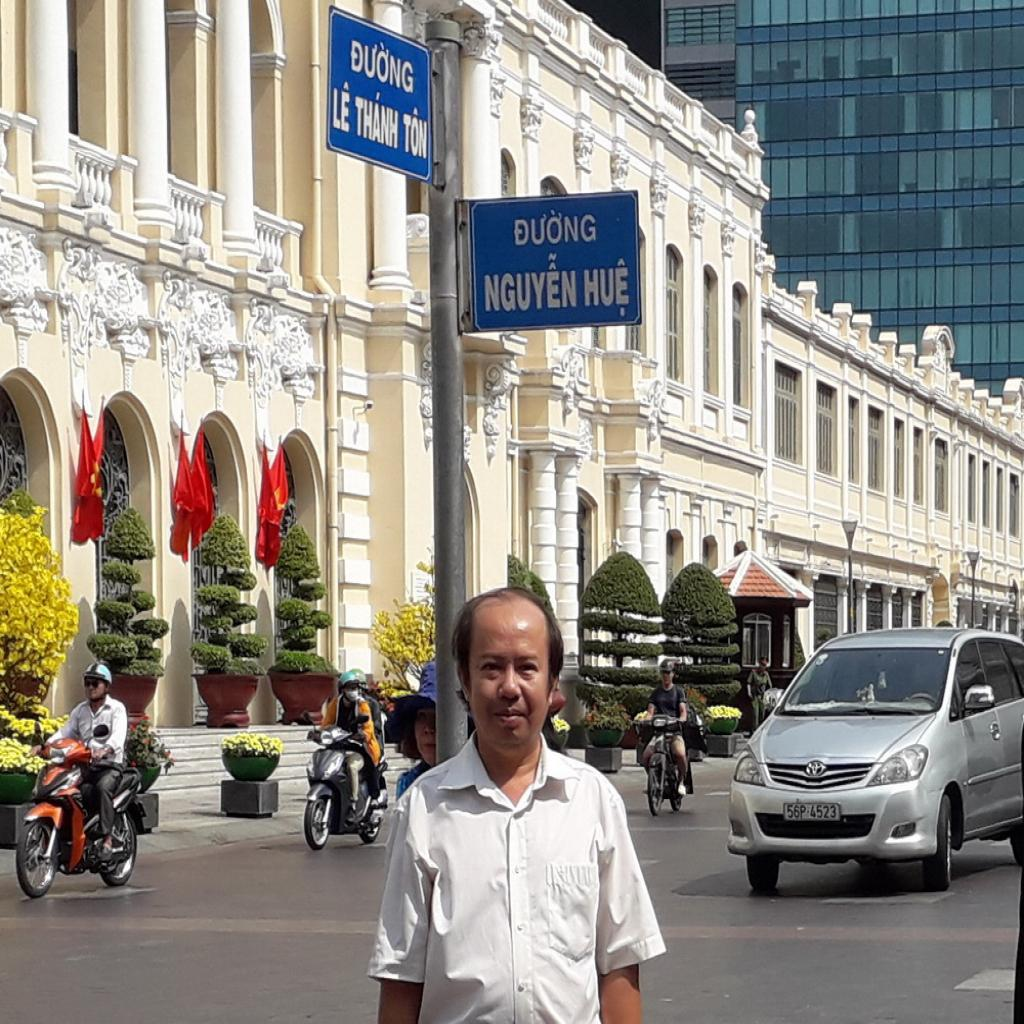text: (482, 253, 580, 313), (349, 30, 417, 98), (354, 84, 402, 154), (511, 210, 597, 248), (400, 104, 429, 164), (332, 78, 352, 135)
